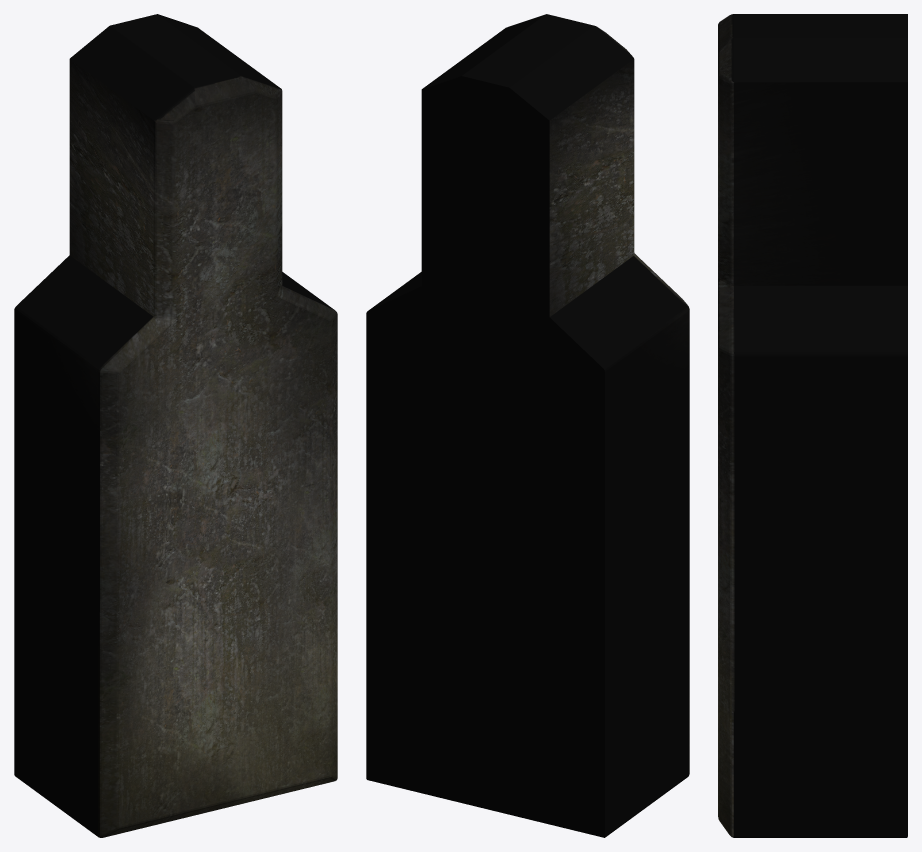
The model's file is Building 3 wall deco.fbx.
3 renders of one model, left to right at view 1: azimuth 30°, elevation 25°; view 2: azimuth 150°, elevation 25°; view 3: azimuth 270°, elevation 25°, orthographic. The views are drawn at different scales.
Parts seen in each view (by area): view 1: Cube.135; view 2: Cube.135; view 3: Cube.135.
Part boxes in pixels (left/top/right/bottom): Cube.135: left=14, top=14, right=337, bottom=837; Cube.135: left=366, top=14, right=689, bottom=837; Cube.135: left=718, top=14, right=907, bottom=837.
Bounding box in the file's own units: 91.61 × 267 × 60.96.
